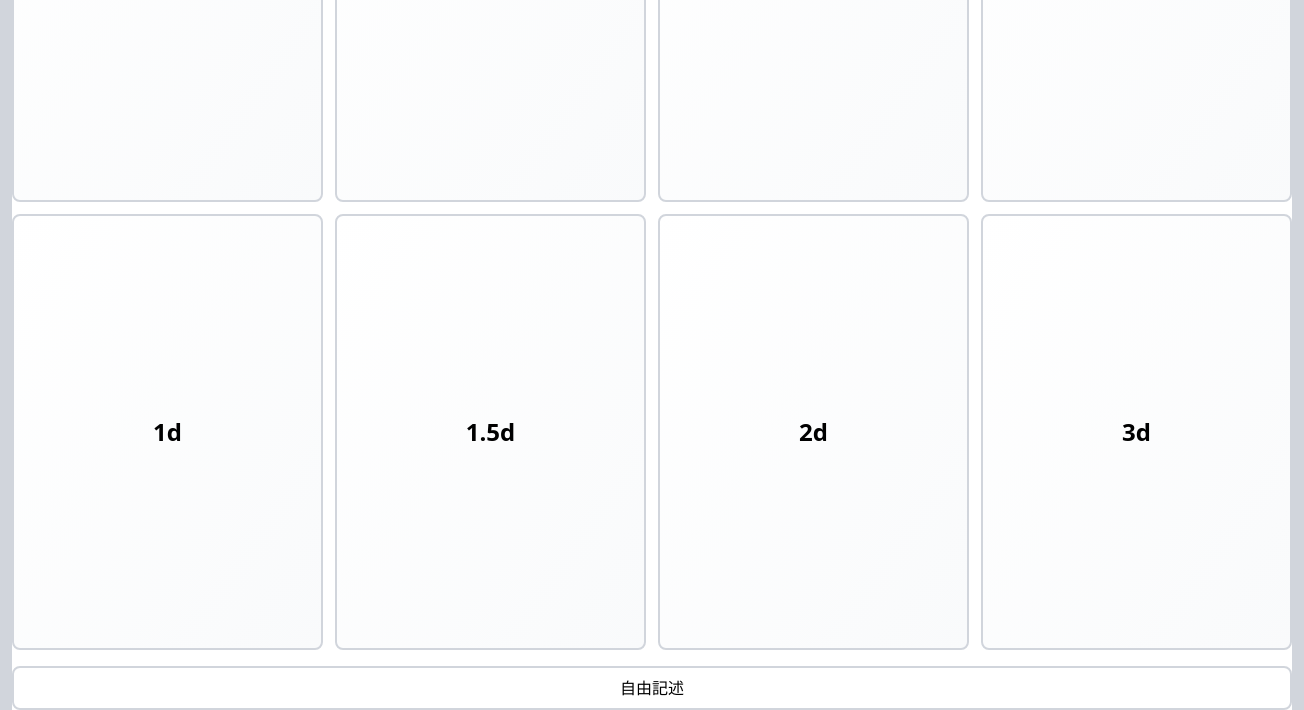
Test case: CardSelector › カスタム値入力後にフォームがクリアされる
(page scrolled)
Click the button "自由記述" at (652, 688), box [12, 666, 1292, 709]
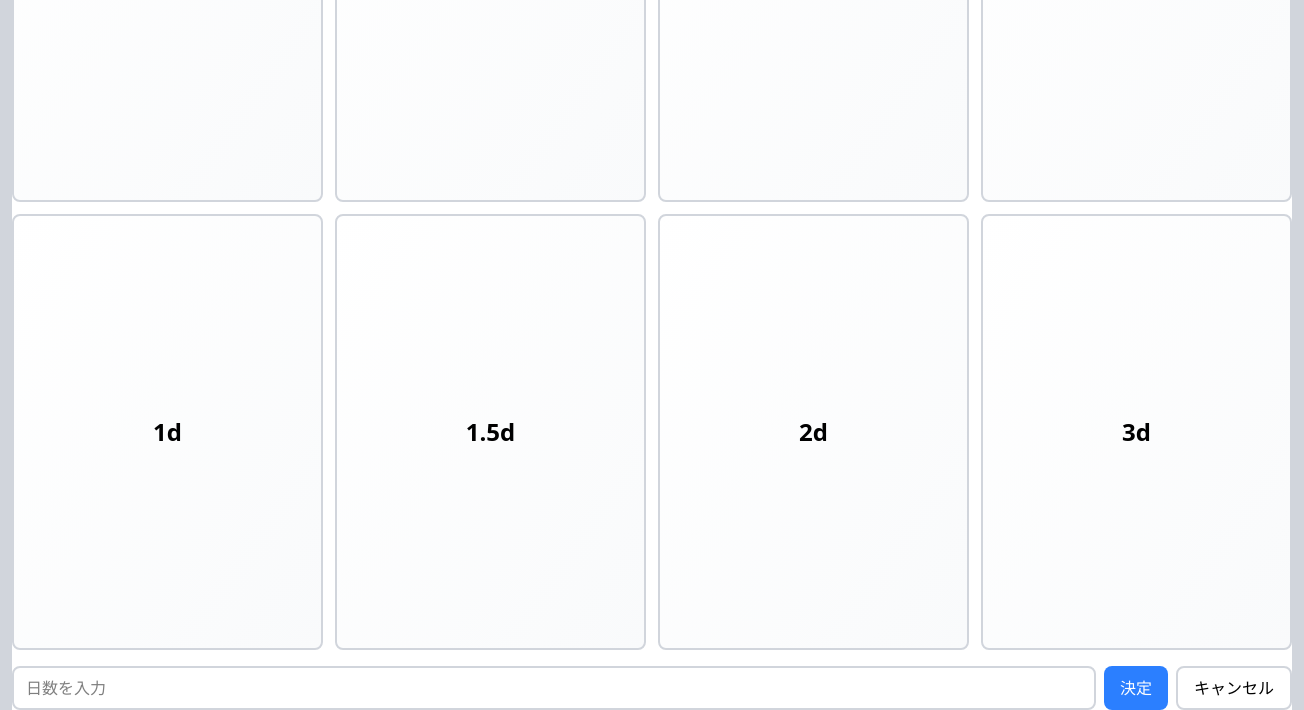
Type "5" into the number field with placeholder "日数を入力" at (554, 688), box [12, 666, 1096, 709]
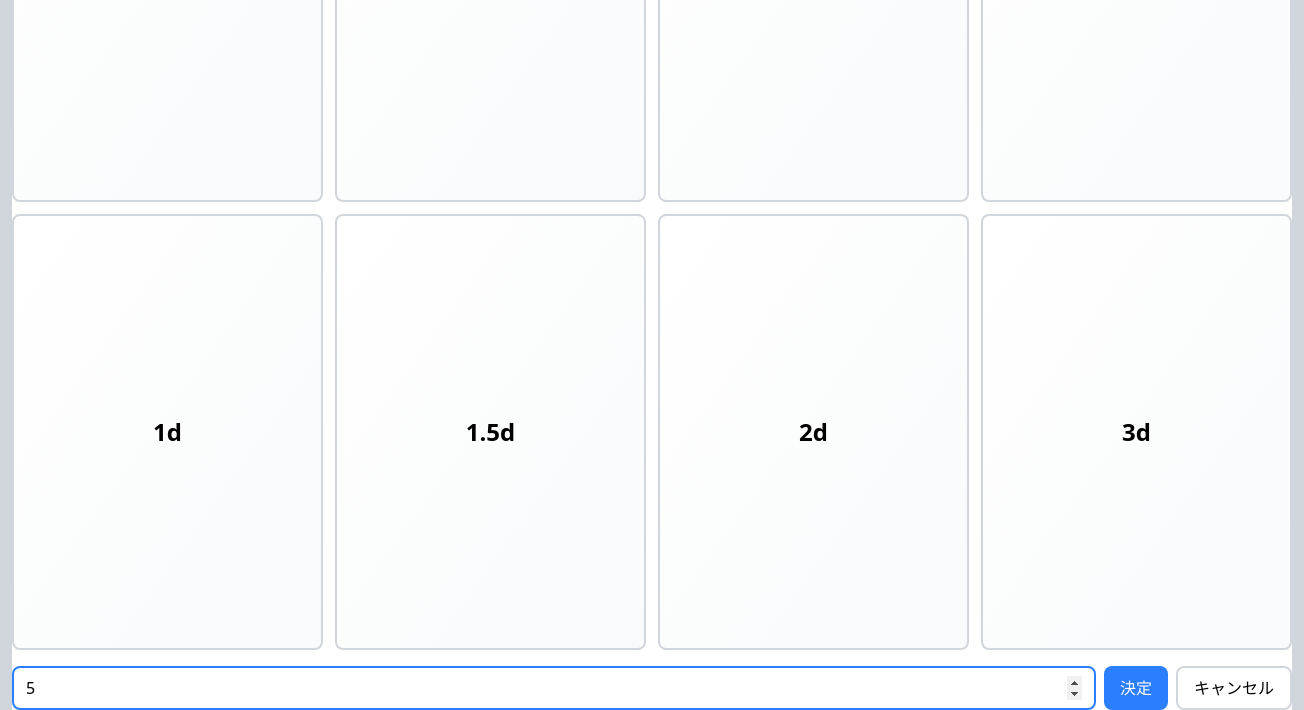
Click the button "決定" at (1136, 688), box [1104, 666, 1168, 709]
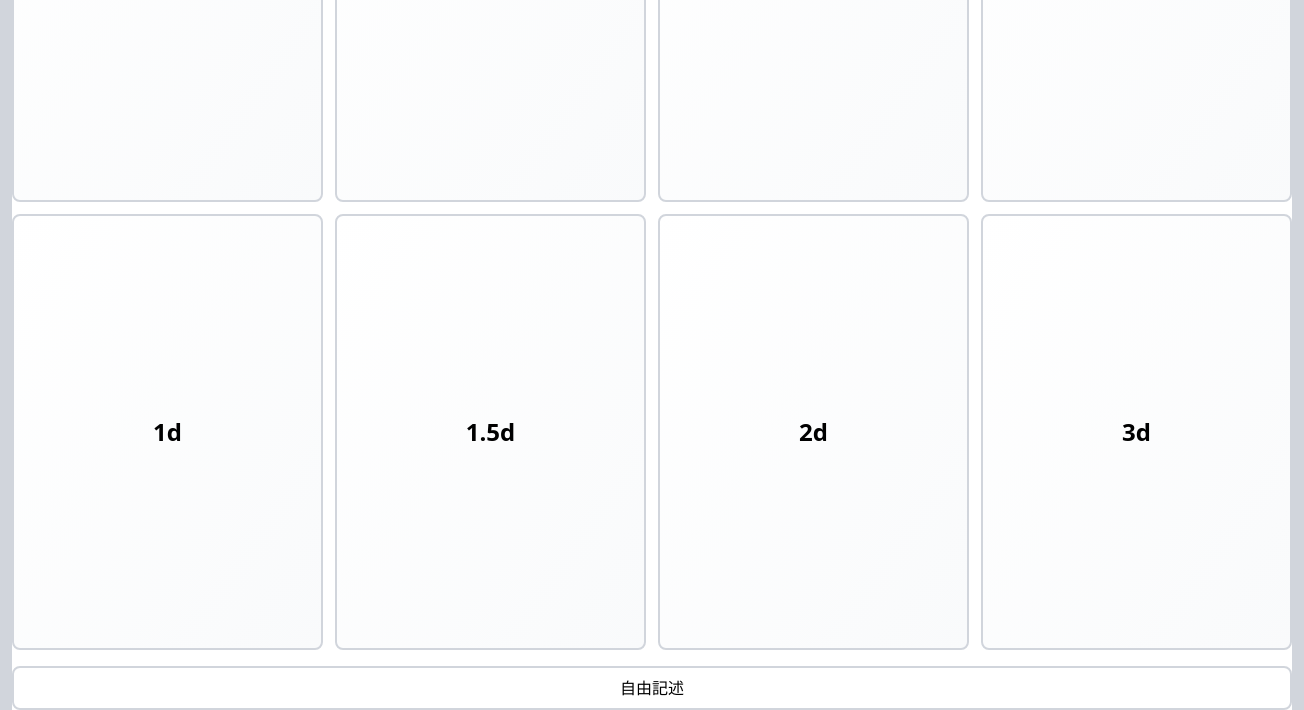
Expected: the button "自由記述" is shown, [12, 666, 1292, 709]
Expected: the number field with placeholder "日数を入力" is gone
